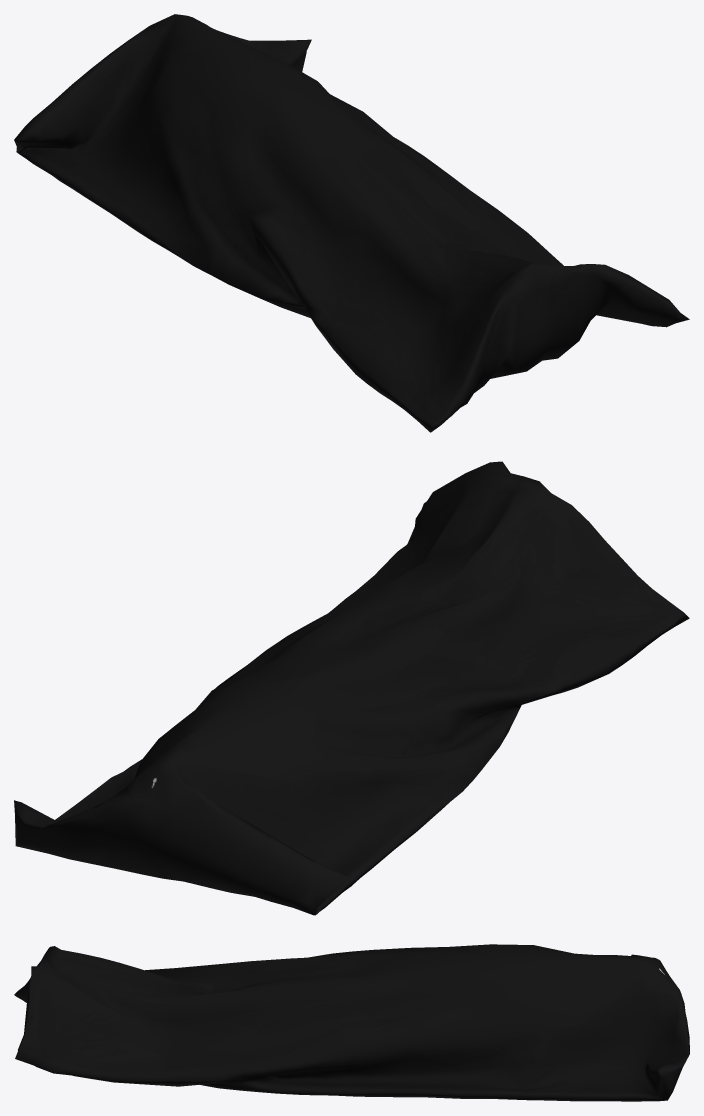
3 renders of one model, top to bottom at view 1: azimuth 30°, elevation 25°; view 2: azimuth 150°, elevation 25°; view 3: azimuth 270°, elevation 25°, orthographic. The views are drawn at different scales.
Parts seen in each view (by area): view 1: SM_Bodybag_1_LOD0; view 2: SM_Bodybag_1_LOD0; view 3: SM_Bodybag_1_LOD0.
Part boxes in pixels (x1=…): SM_Bodybag_1_LOD0: x1=14, y1=14, x2=689, y2=432; SM_Bodybag_1_LOD0: x1=14, y1=461, x2=689, y2=915; SM_Bodybag_1_LOD0: x1=14, y1=944, x2=689, y2=1101.
Size of the model in its own units: 0.8794 by 0.3325 by 1.99.
Materials: 1 (1 with a texture image).
